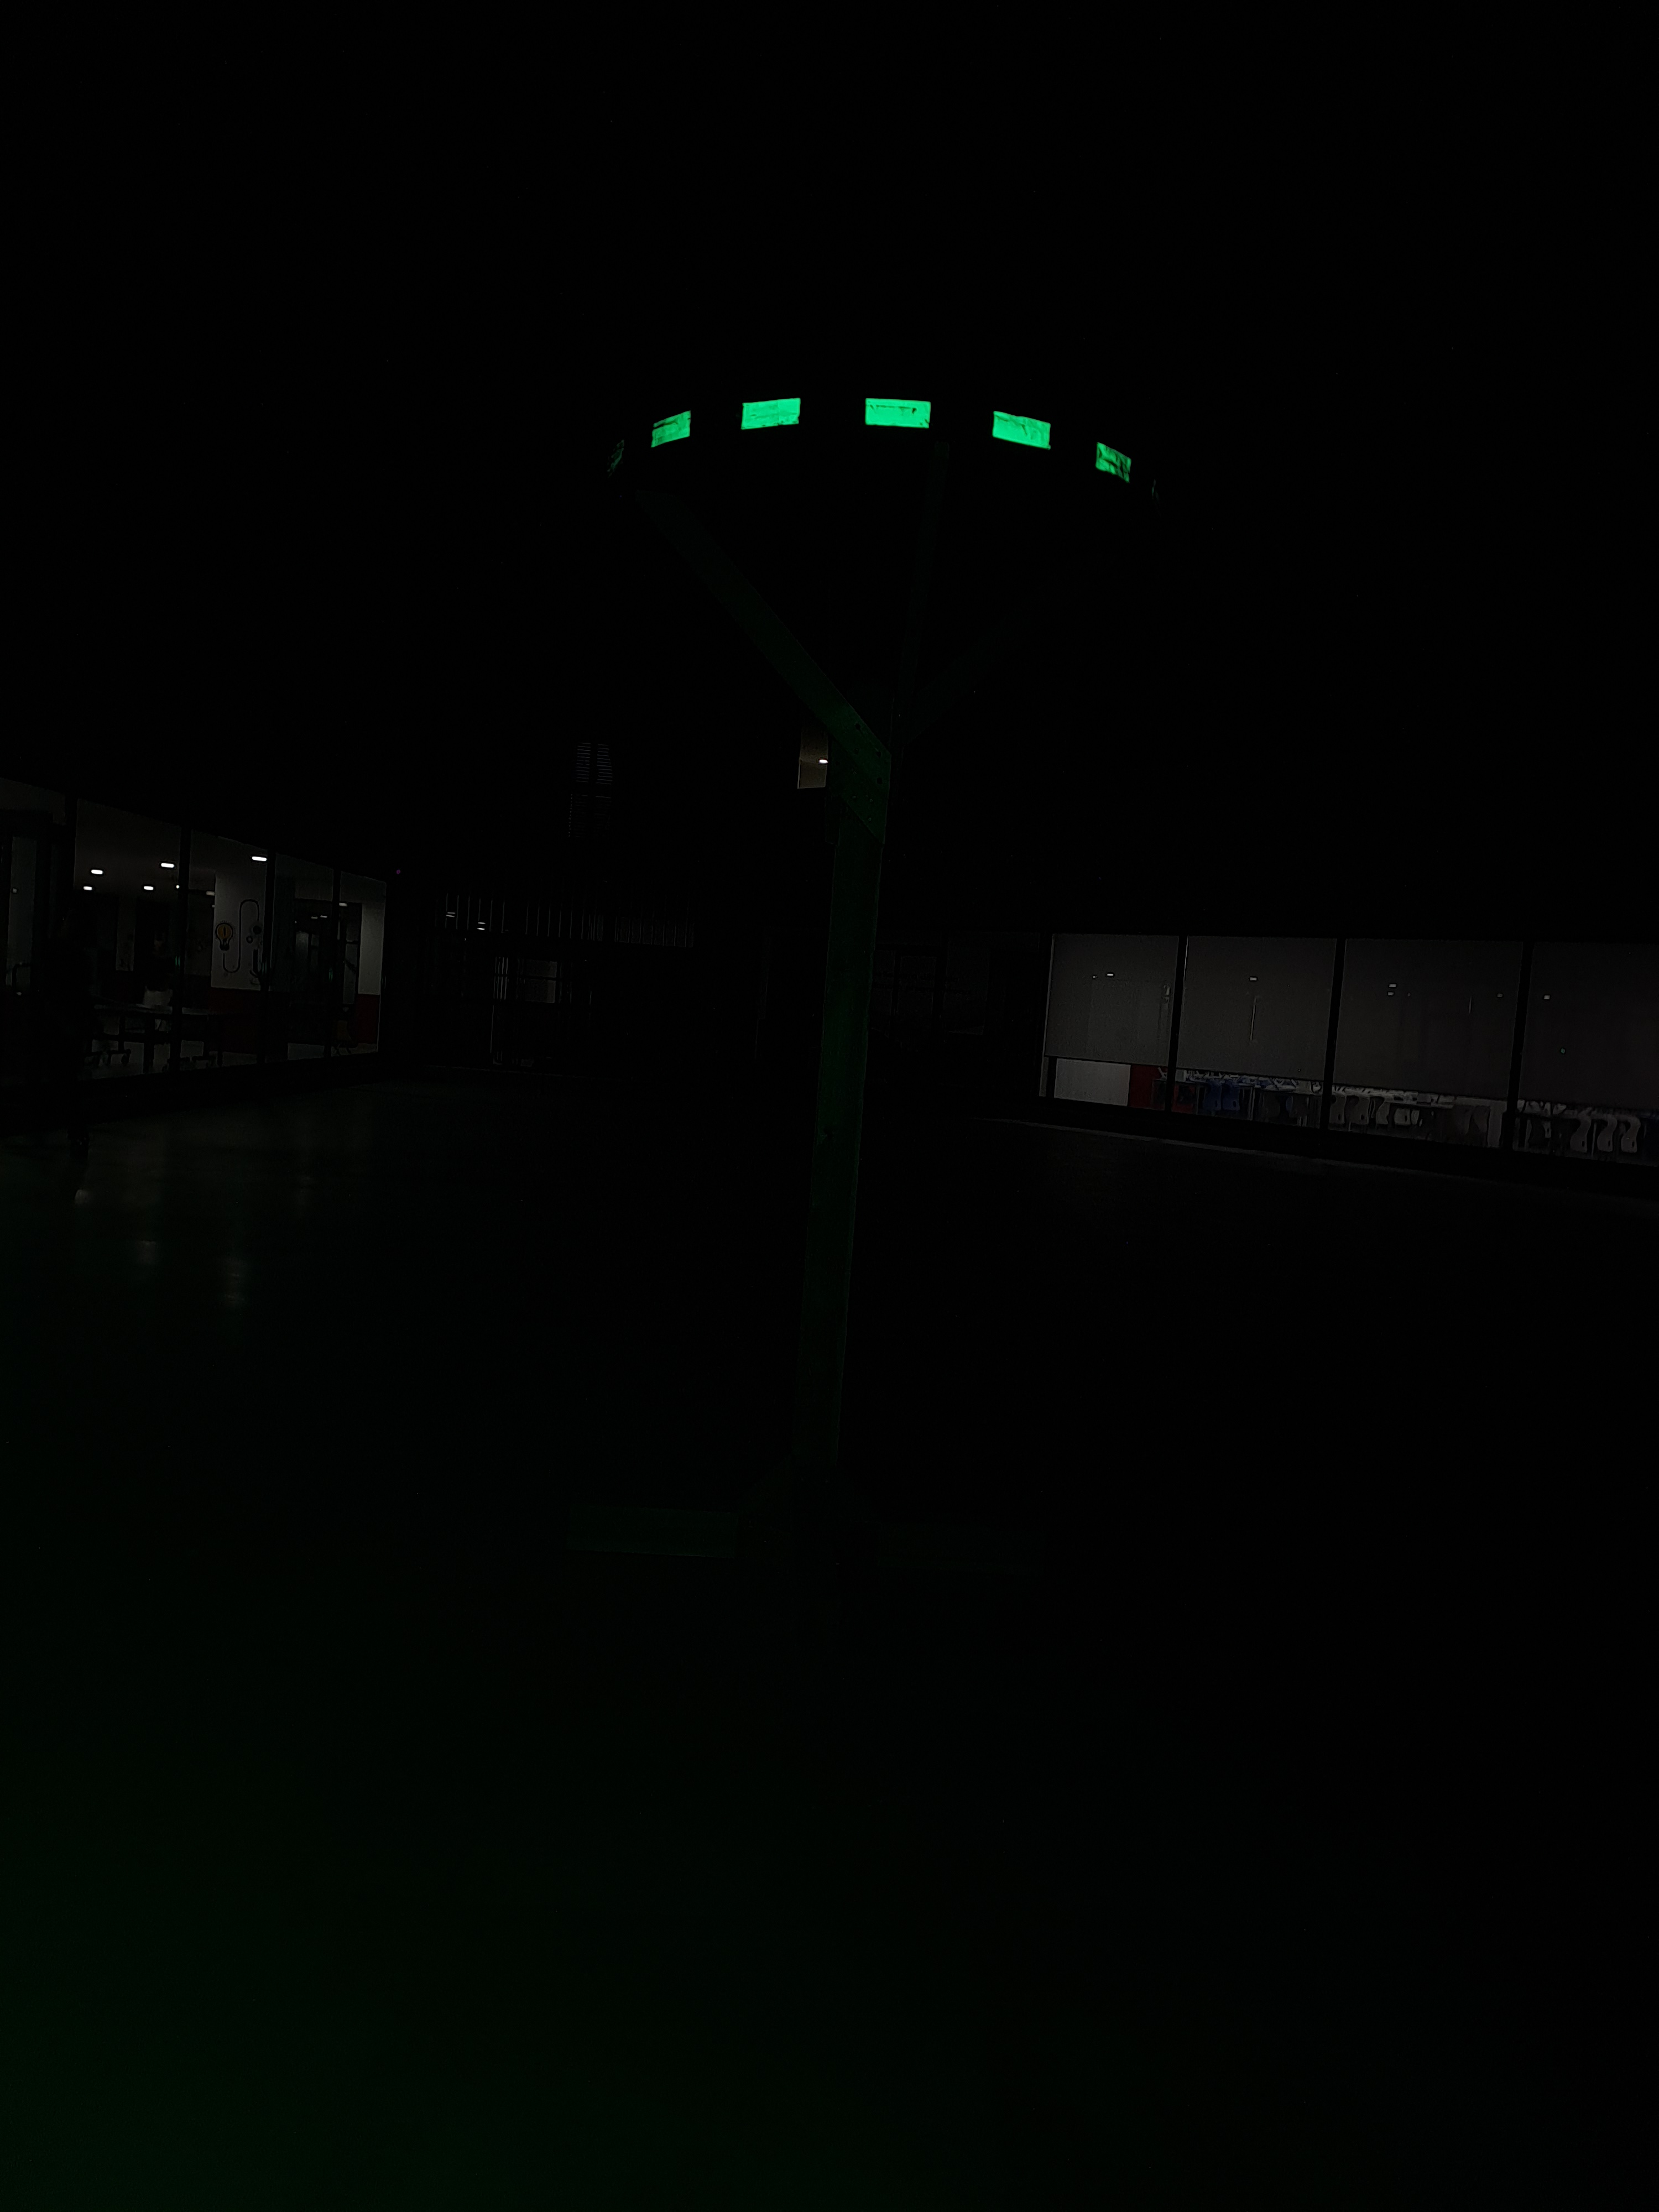hoop: (648, 385, 1131, 495)
